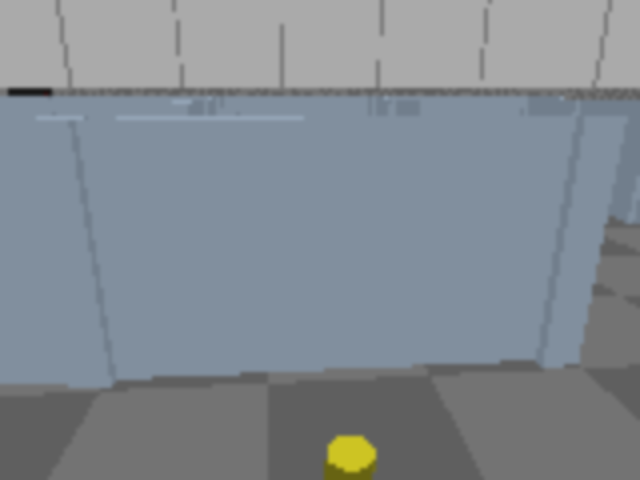puck: (326, 435, 375, 478)
